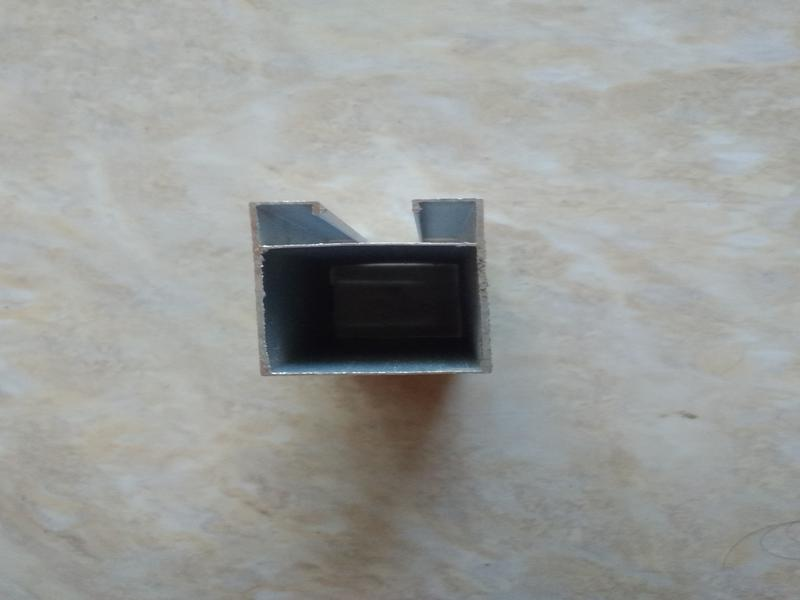Aluminium_1: (240, 190, 499, 379)
